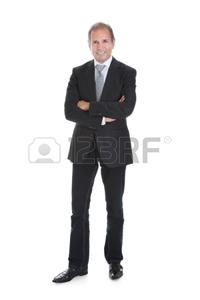person: (60, 15, 141, 146)
